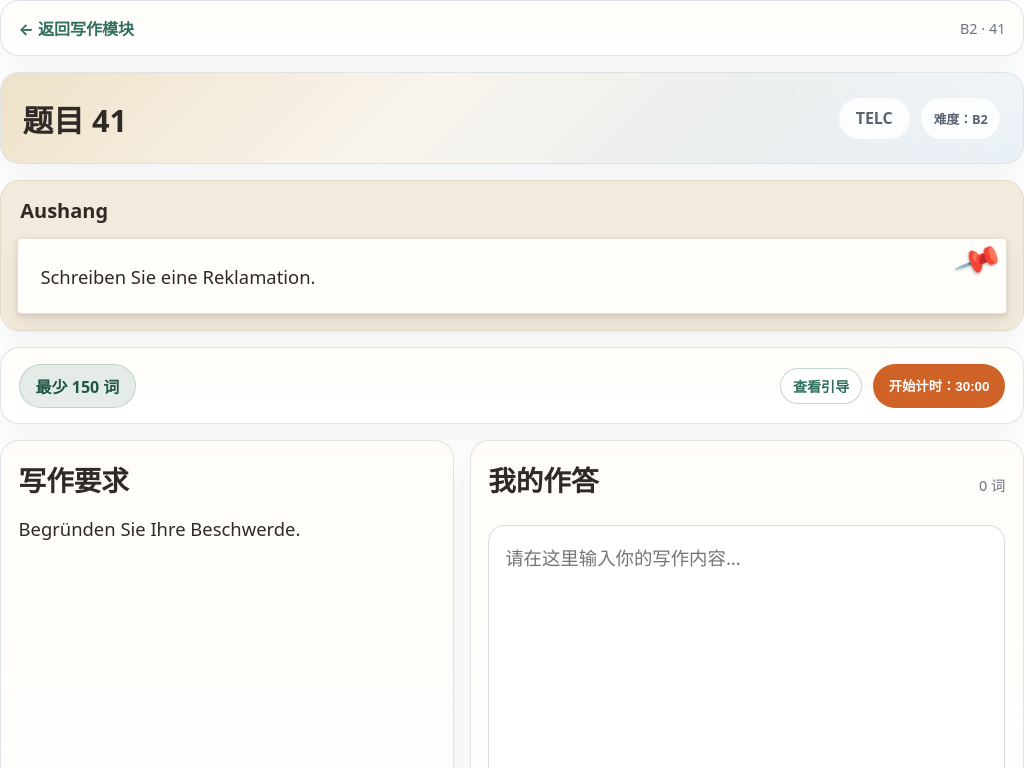
Test: ExamPreparationWritingDetailPage text annotations › lets B2 users reopen the guide from the small button before the timer
Click the button "查看引导" at (821, 386), box [780,368,862,404]
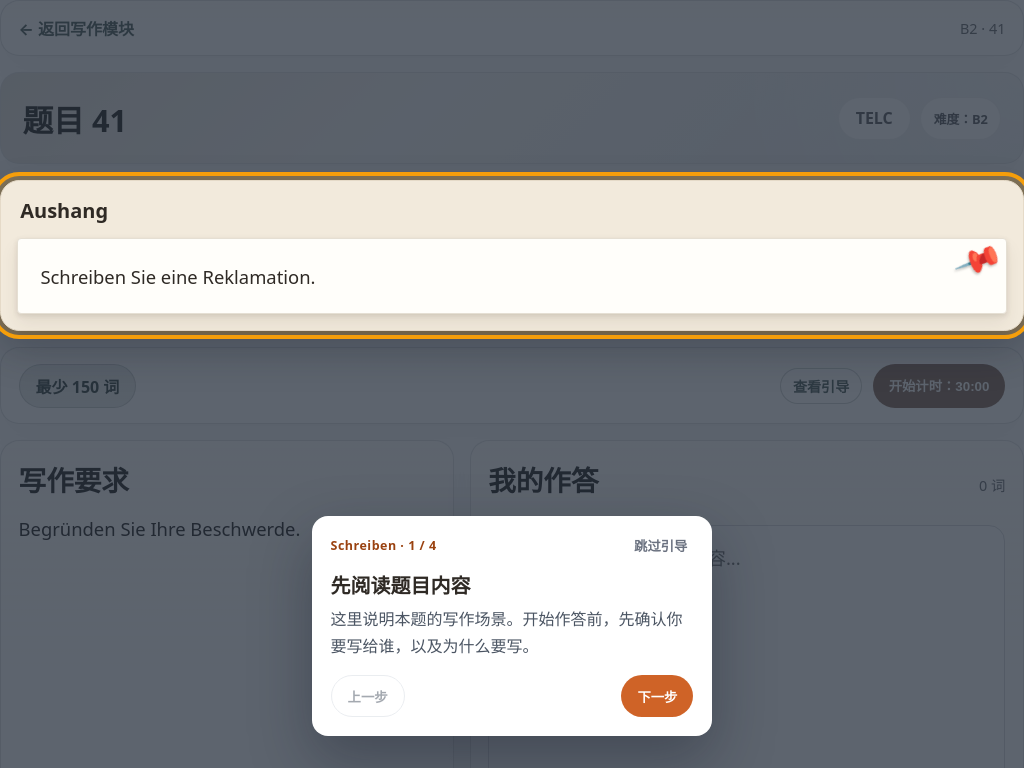
Expected: the dialog is shown, [312,516,712,736]
